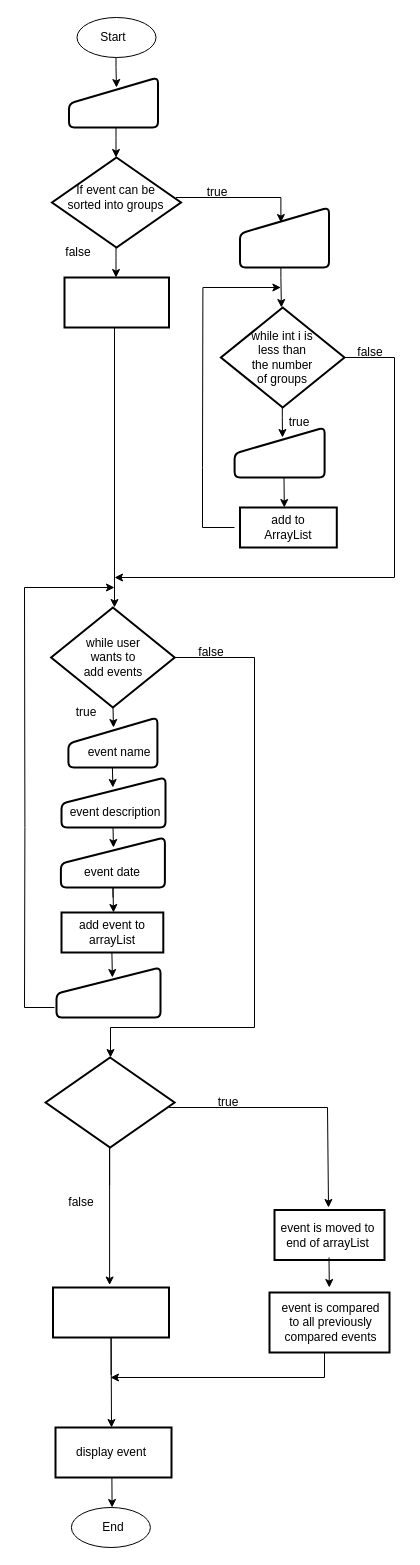
This 420x1565 diagram has some shape labels left out. Here are the shapes that lost their labels. From the top down, the centre of each, then its label:
At point 113,102: "Timeline title".
At point 284,237: "number of groups".
At point 116,302: "no groups added".
At point 279,452: "group names".
At point 108,992: "add another event?".
At point 109,1102: "if each event is more recent than the last".
At point 111,1312: "event is compared to all non-compared events".
